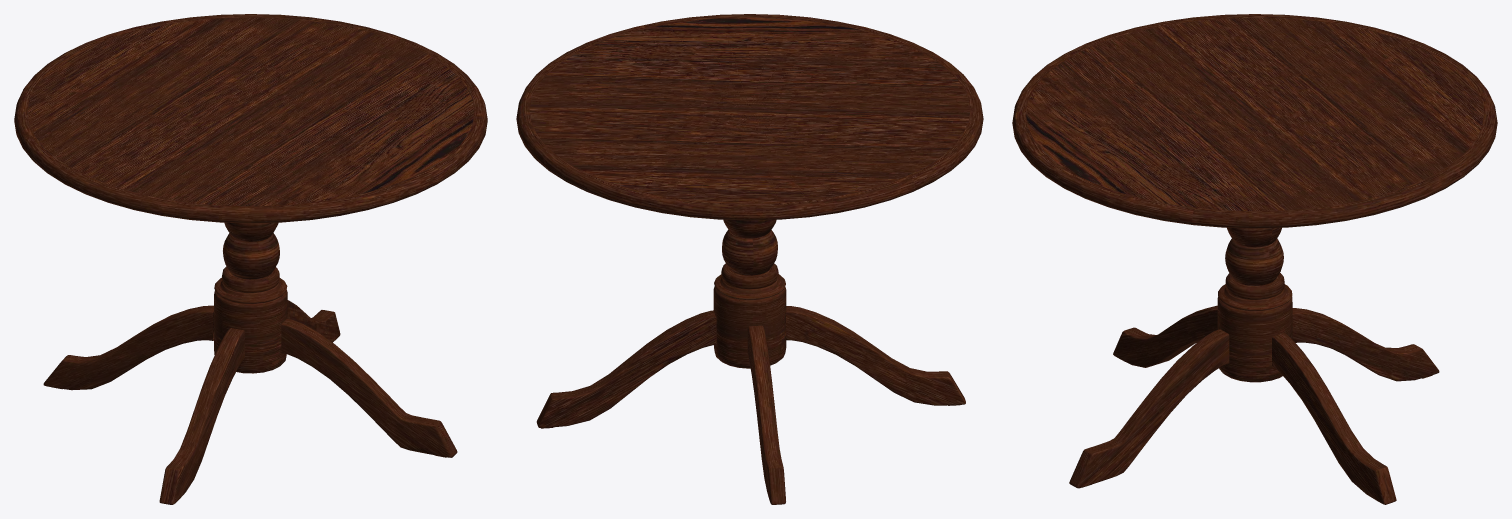
The model's file is dining_table_harsh_wardhan.glb.
3 renders of one model, left to right at view 1: azimuth 30°, elevation 25°; view 2: azimuth 150°, elevation 25°; view 3: azimuth 270°, elevation 25°, orthographic. The views are drawn at different scales.
Parts seen in each view (by area): view 1: Object_4; view 2: Object_4; view 3: Object_4.
Boxes of the visible parts, left/top/right/bottom form: Object_4: left=14, top=14, right=487, bottom=504; Object_4: left=516, top=14, right=983, bottom=504; Object_4: left=1012, top=14, right=1497, bottom=504.
Bounding box in the file's own units: 2.62 × 1.88 × 2.62.
2 materials, 1 textured.
